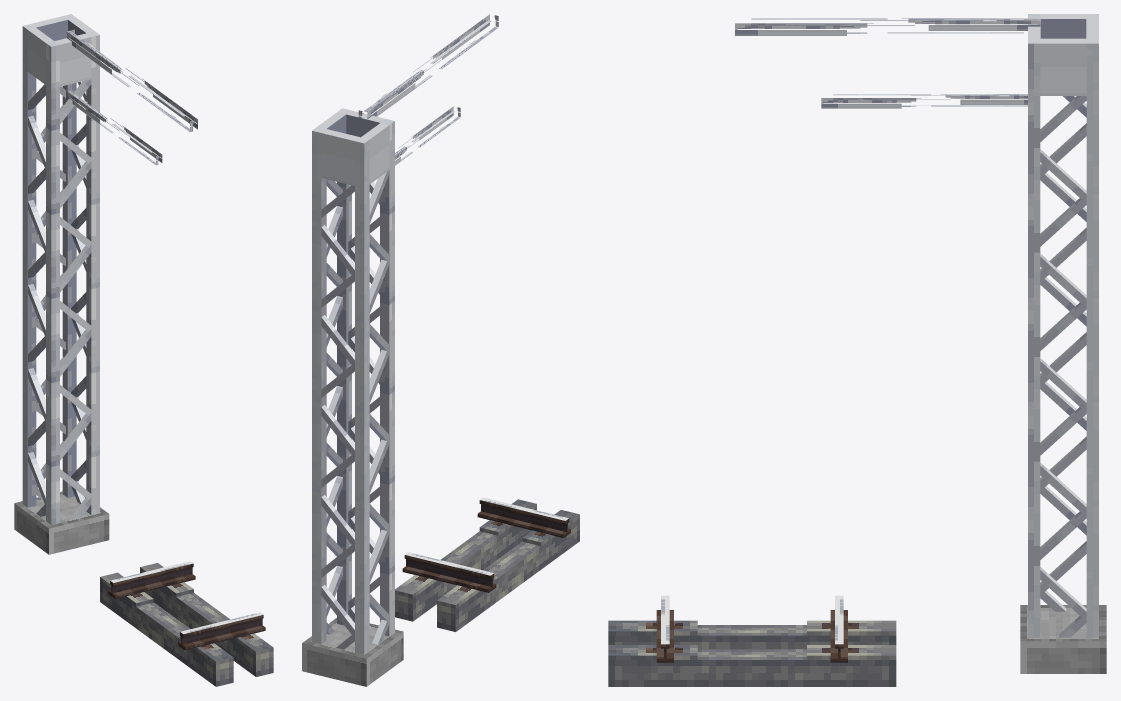
File: corridor.glb
The picture shows the model from 3 angles, left to right: view 1: azimuth 30°, elevation 25°; view 2: azimuth 150°, elevation 25°; view 3: azimuth 270°, elevation 25°; orthographic projection. The views are drawn at different scales.
Visible parts, largest first — view 1: mast_mesh, rail_mesh; view 2: mast_mesh, rail_mesh; view 3: mast_mesh, rail_mesh.
Boxes of the visible parts, x1,y1,x2,y2 form: mast_mesh: (14,14,197,554); rail_mesh: (100,561,273,686); mast_mesh: (302,14,498,686); rail_mesh: (395,497,579,631); mast_mesh: (735,14,1106,673); rail_mesh: (608,595,896,686).
Size of the model in its own units: 1 by 6.21 by 4.33.
Materials: 2 (2 with a texture image).
